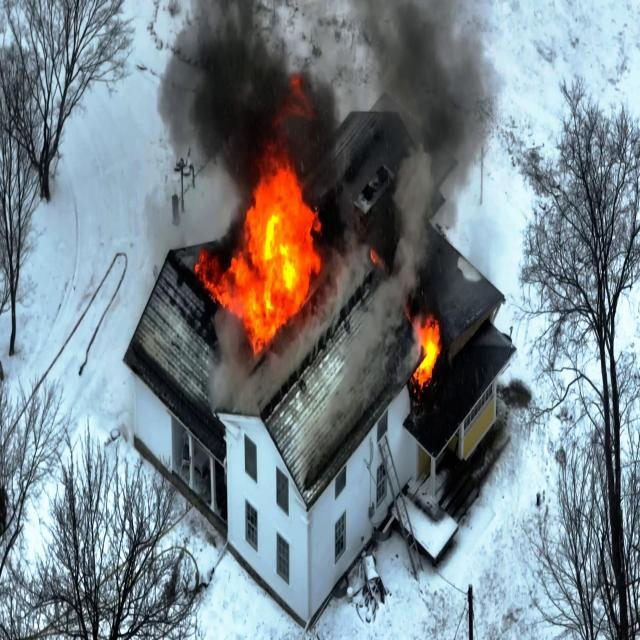Fire: (245, 150, 323, 315), (200, 243, 310, 318), (408, 310, 443, 378)
Smoke: (196, 32, 266, 130)
